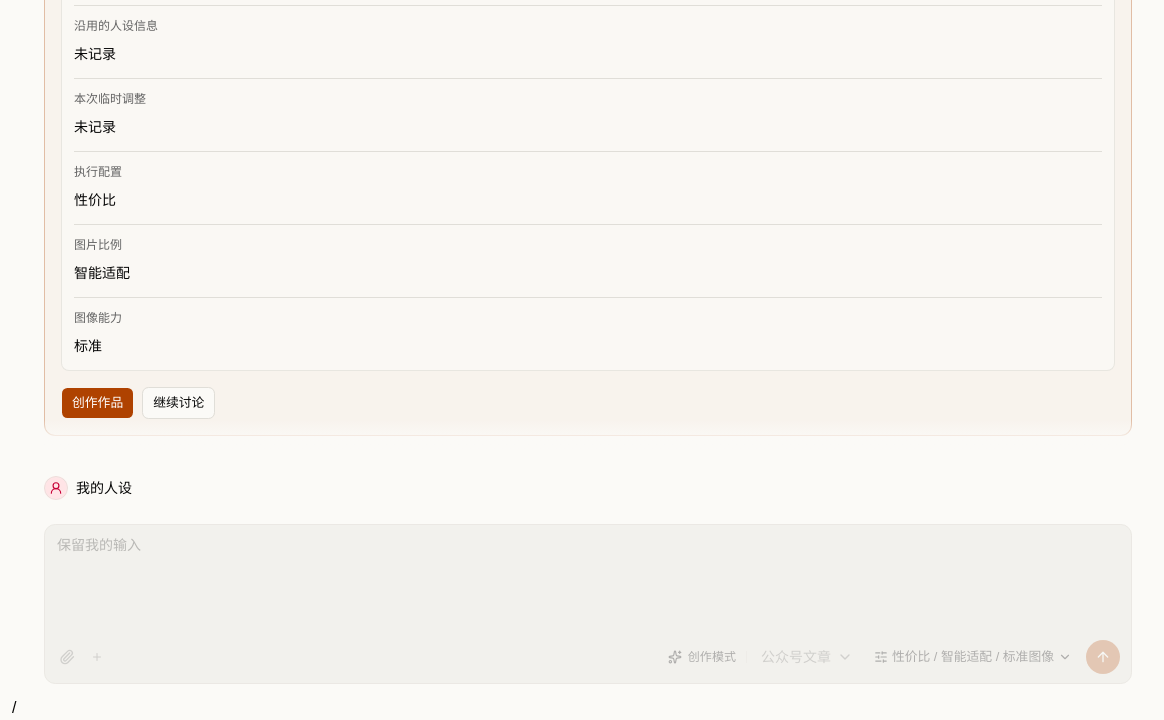
Test: AssistantWorkspace › preserves the displayed draft and local input when durable continue fails
(page scrolled)
Click the button "继续讨论" at [179, 403], box [142,387,215,419]
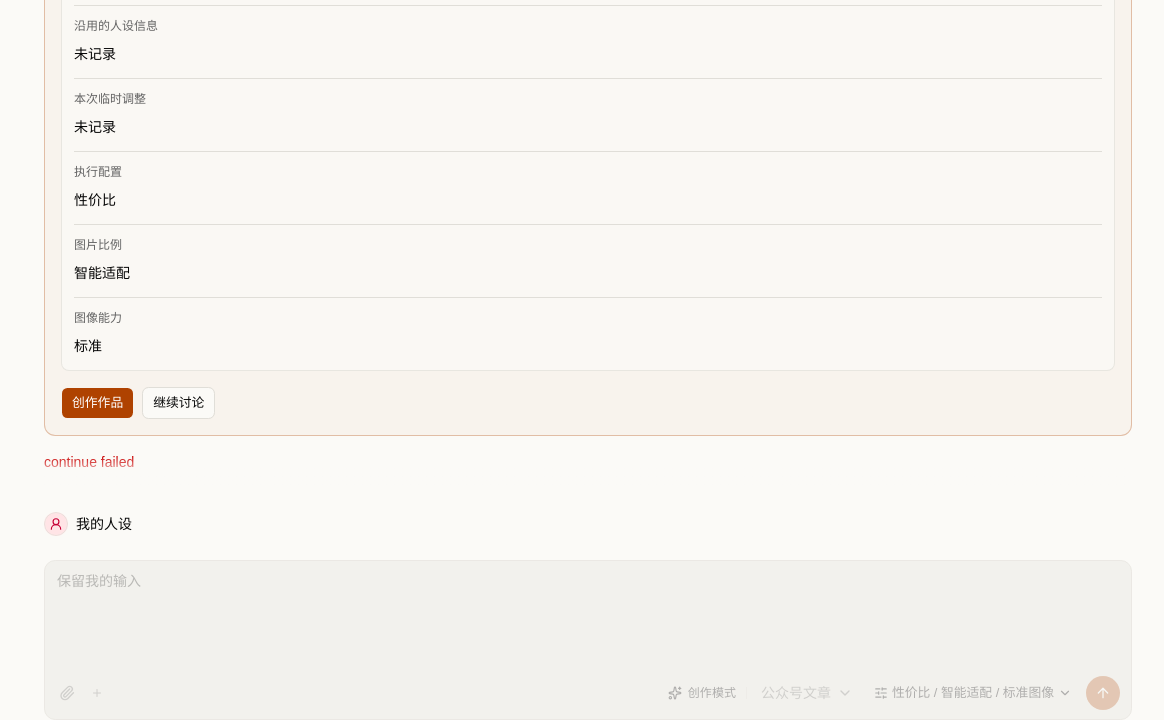
Expected: the text box named "发送消息" holds "保留我的输入", [45,561,1131,669]
Expected: the text "continue failed" is shown, [44,454,134,470]
